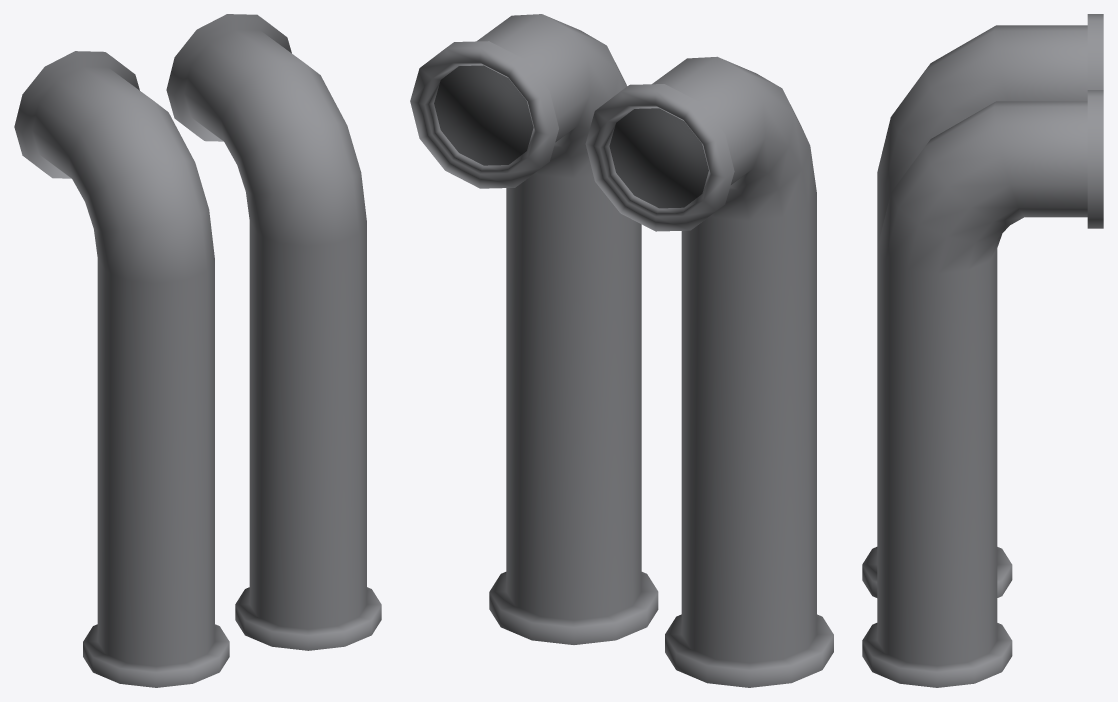
3 renders of one model, left to right at view 1: azimuth 30°, elevation 25°; view 2: azimuth 150°, elevation 25°; view 3: azimuth 270°, elevation 25°, orthographic. The views are drawn at different scales.
Parts seen in each view (by area): view 1: Pipes_Low; view 2: Pipes_Low; view 3: Pipes_Low.
Part boxes in pixels (box(x1,y1,x2,y2)): Pipes_Low: box(14, 14, 381, 687); Pipes_Low: box(410, 14, 833, 687); Pipes_Low: box(862, 14, 1103, 687).
Size of the model in its own units: 1.07 by 2 by 0.7823.
Materials: 1 (1 with a texture image).
